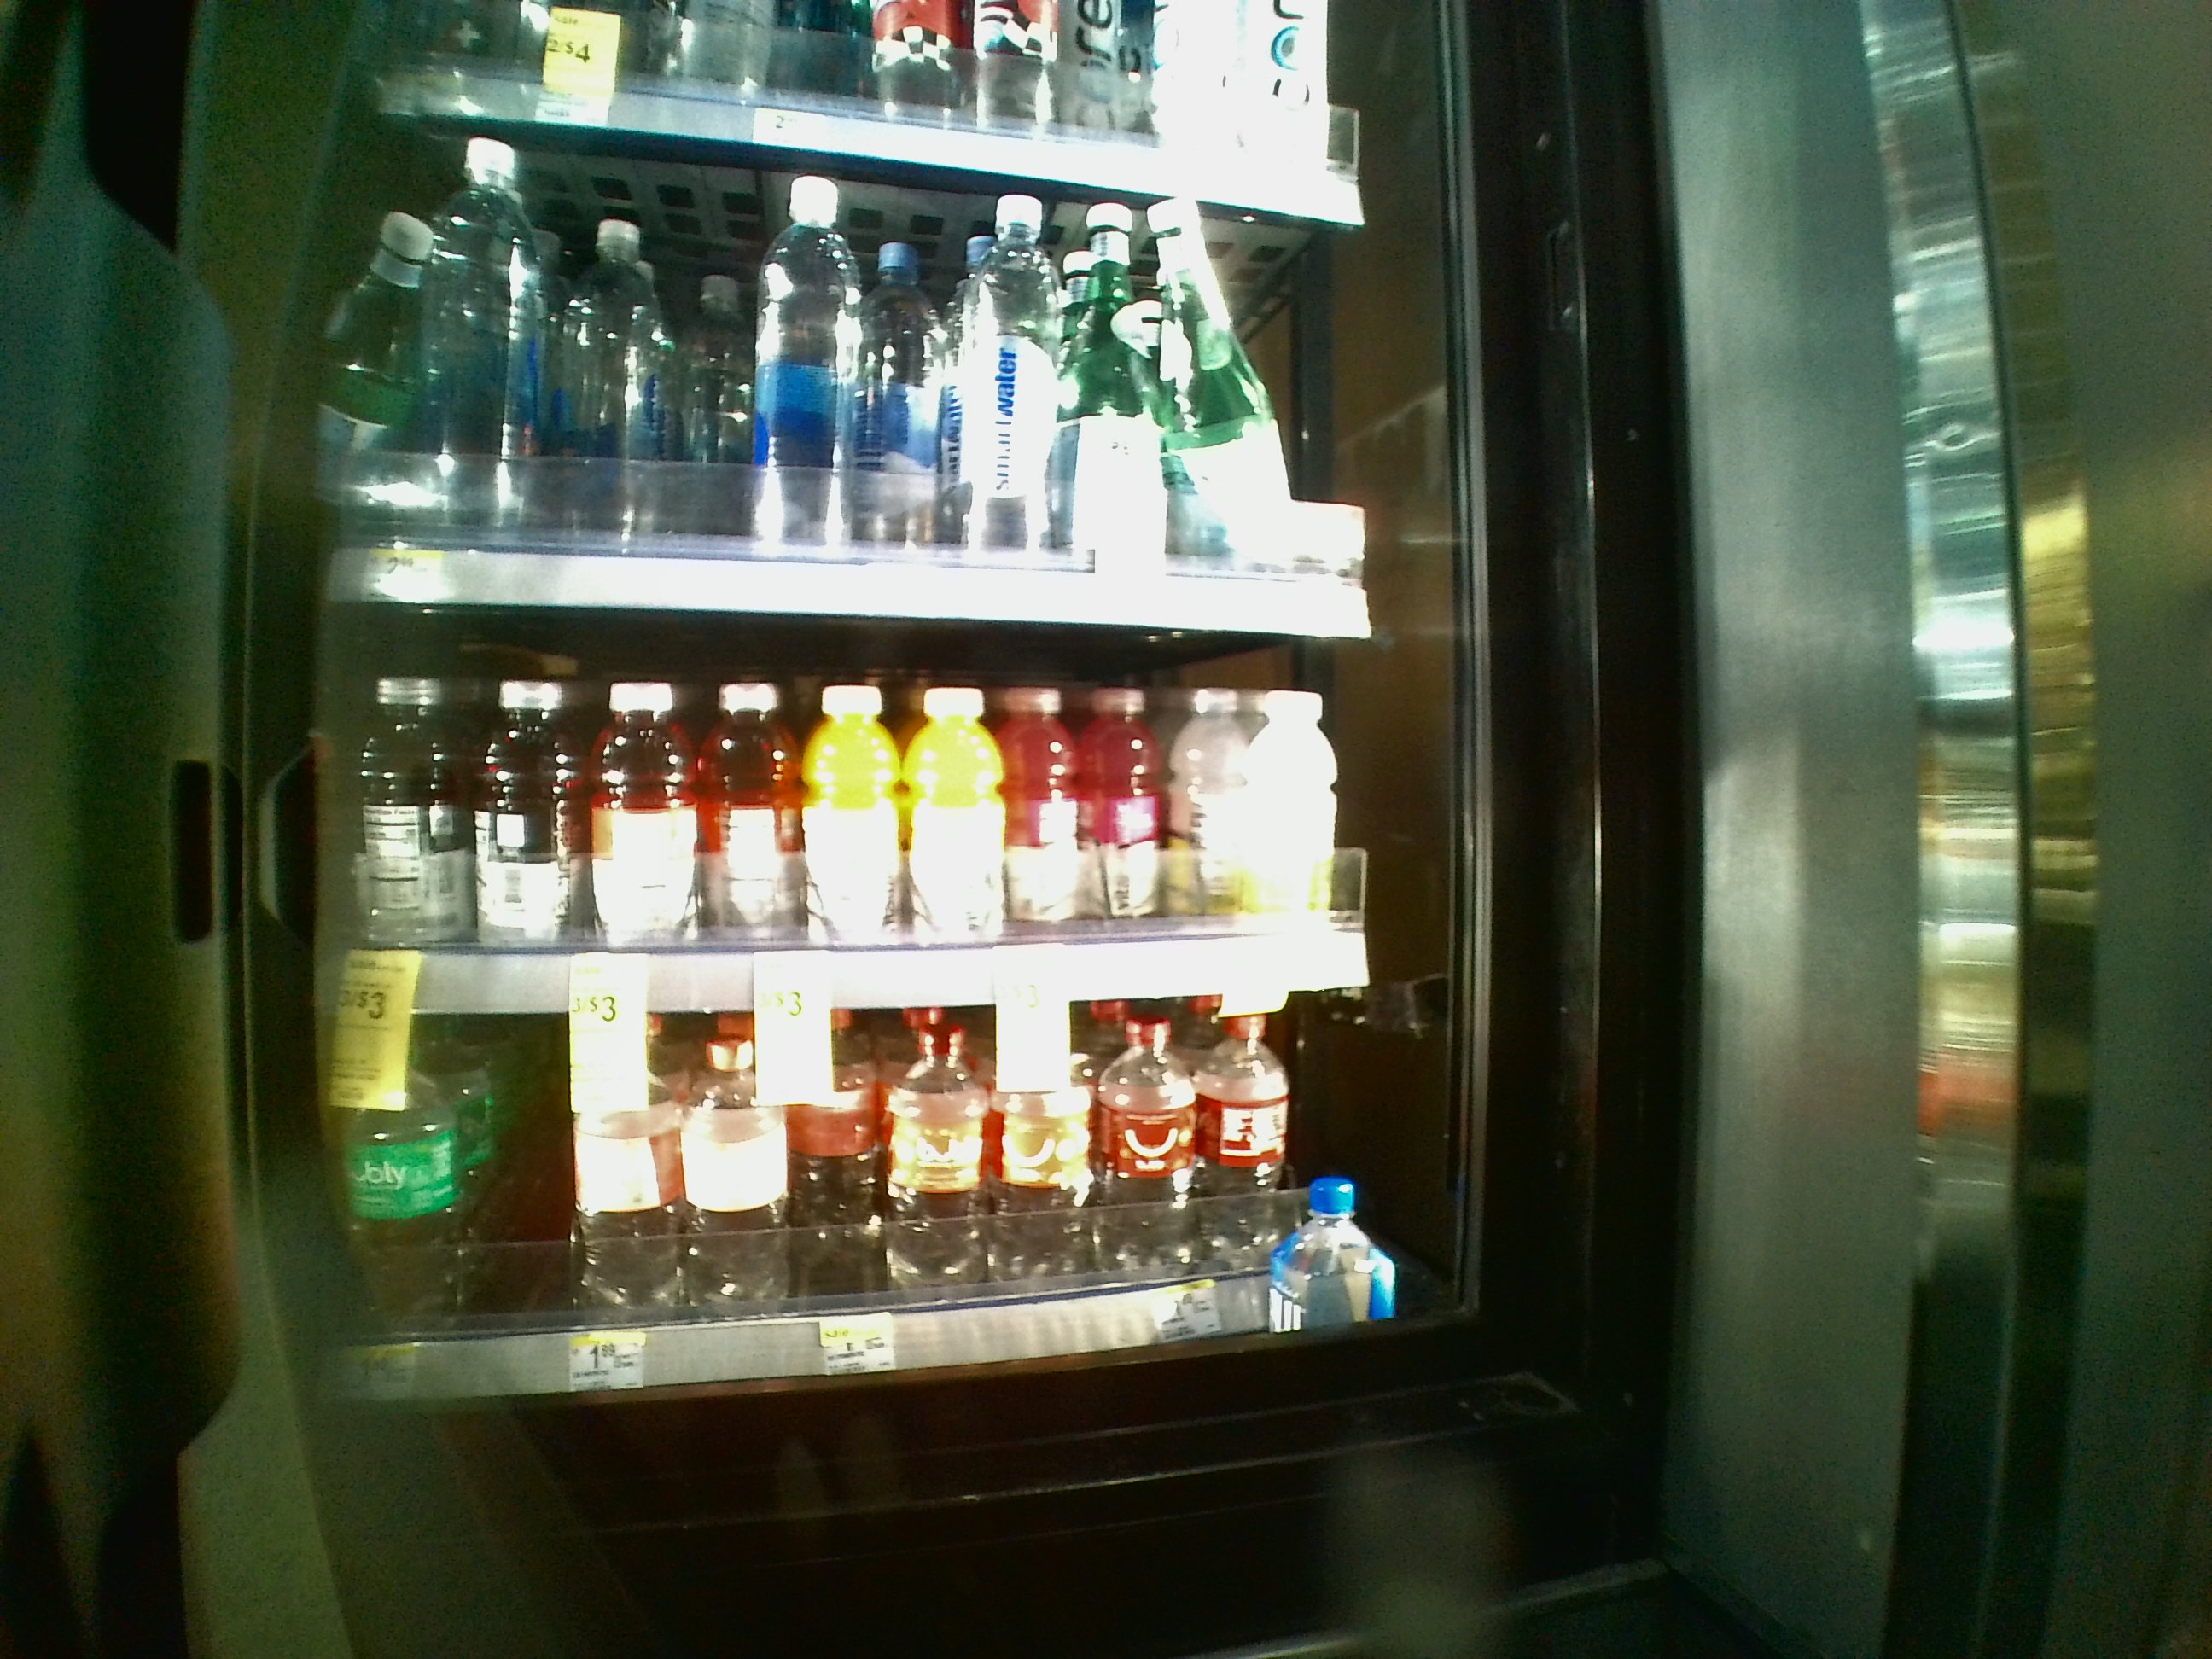Shelf: (298, 112, 1444, 647), (298, 1030, 1444, 1412), (301, 652, 1440, 1023)
